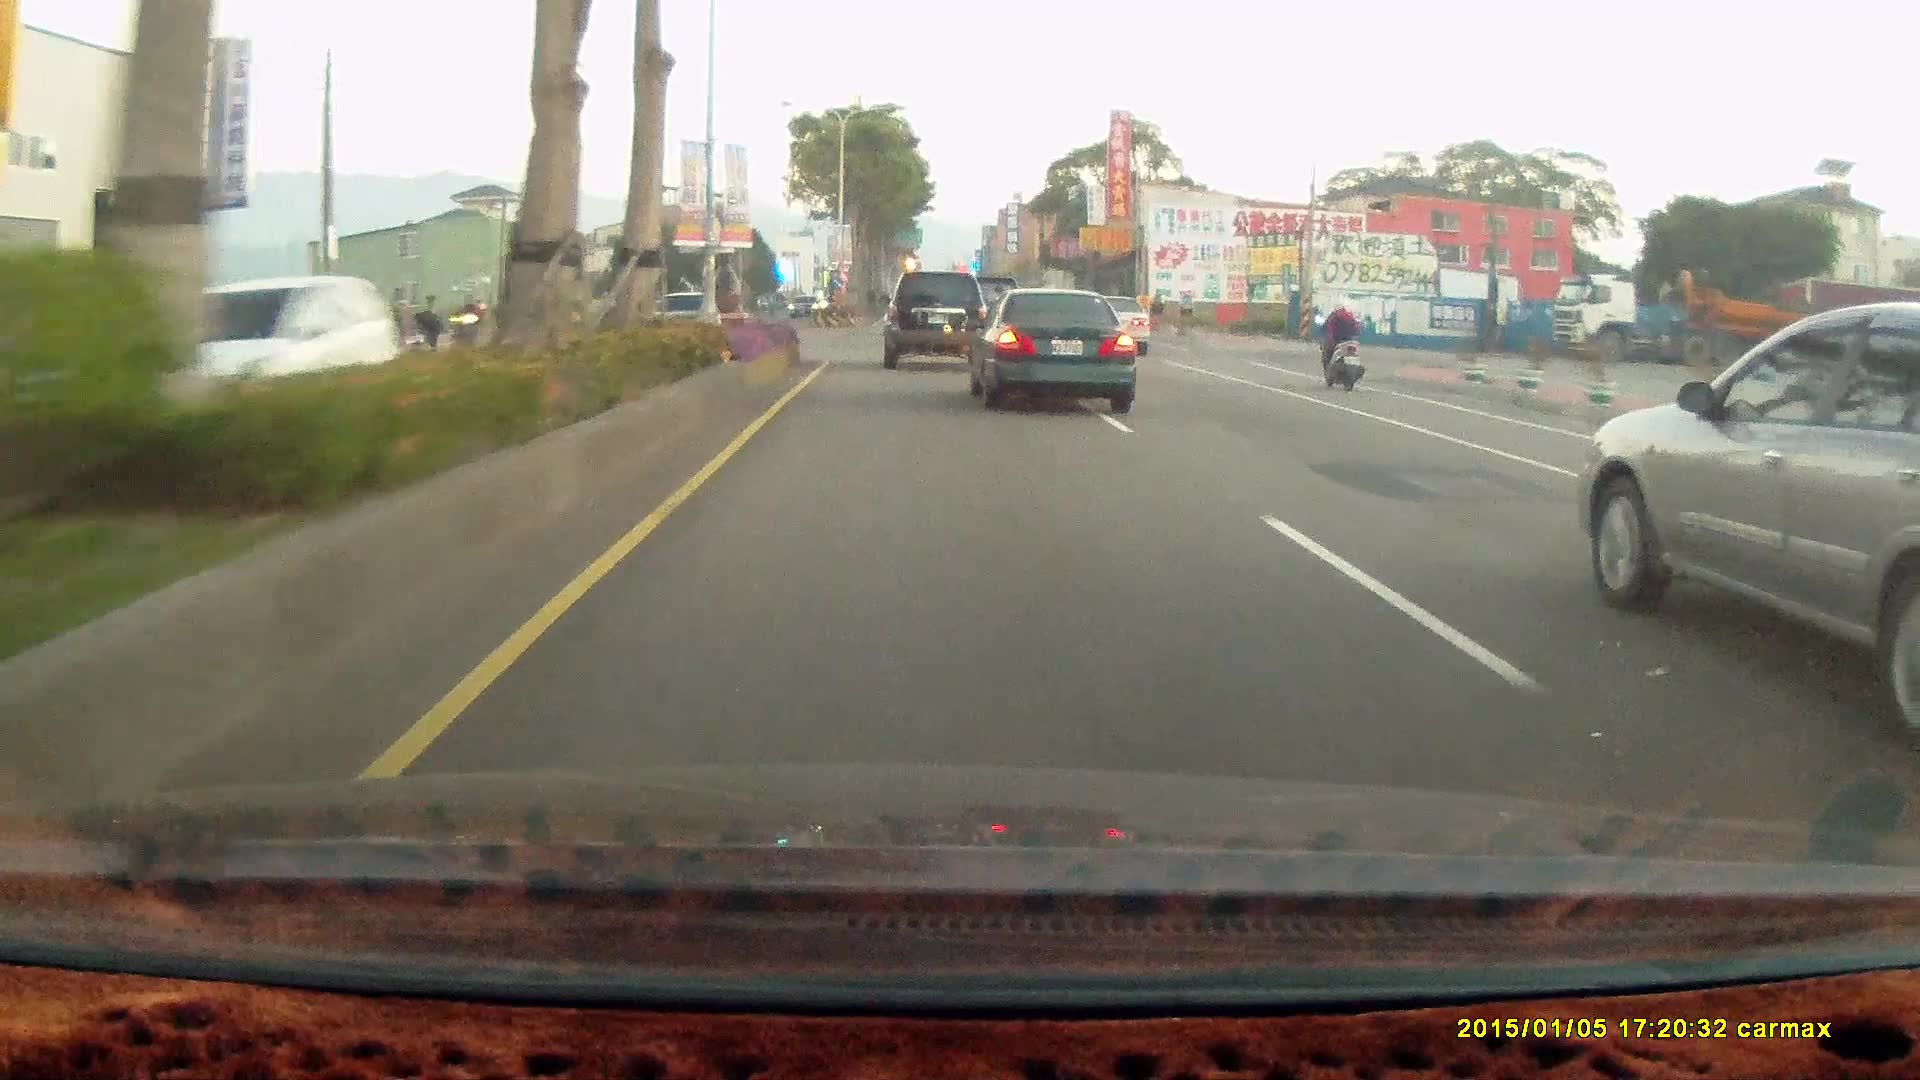pedestrian: (409, 307, 441, 355)
rider: (1308, 289, 1374, 396), (1311, 292, 1367, 388), (446, 294, 489, 363)
vehicle: (1580, 299, 1920, 738), (143, 273, 403, 443), (1548, 269, 1920, 370), (177, 273, 389, 442), (961, 287, 1133, 412), (972, 291, 1139, 413), (881, 268, 992, 370), (881, 270, 987, 371), (1076, 292, 1153, 356), (1077, 295, 1154, 359), (643, 289, 723, 346), (786, 295, 820, 318)
